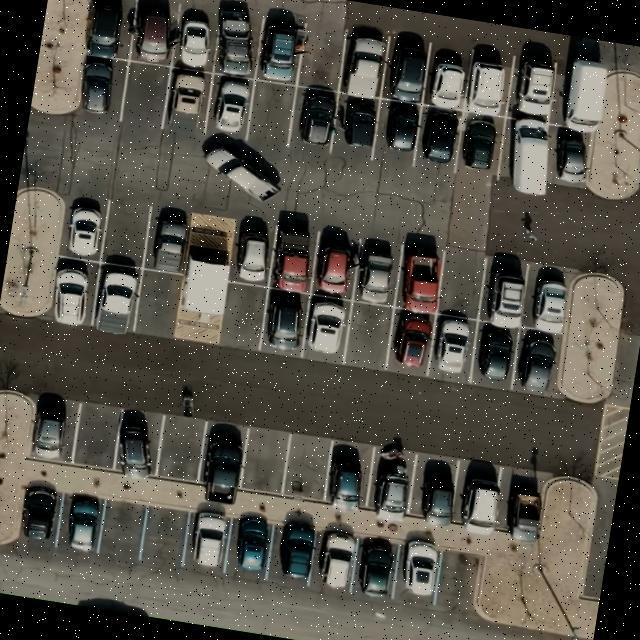space-empty: (292, 20, 348, 94), (278, 434, 336, 504), (98, 196, 154, 268), (152, 414, 208, 486), (117, 61, 171, 134), (245, 80, 297, 154), (436, 246, 486, 320), (70, 401, 122, 472), (217, 282, 270, 350), (137, 502, 190, 570), (344, 300, 395, 370), (133, 268, 184, 336), (238, 428, 288, 496), (97, 498, 147, 562), (436, 552, 484, 614)
space-occupied: (505, 47, 567, 124), (194, 422, 252, 504), (88, 261, 148, 336), (339, 24, 398, 100), (348, 234, 406, 308), (496, 462, 552, 538), (498, 119, 556, 191), (228, 214, 284, 288), (404, 454, 460, 528), (478, 255, 534, 328), (306, 524, 362, 597), (393, 240, 448, 313), (161, 66, 215, 140), (60, 190, 114, 264), (299, 294, 356, 364), (392, 537, 448, 608), (426, 313, 482, 383), (168, 4, 224, 74), (24, 392, 78, 464), (320, 439, 374, 511), (362, 447, 417, 517), (44, 254, 96, 328), (348, 532, 401, 604), (412, 104, 466, 174), (225, 512, 277, 584), (552, 58, 604, 130), (288, 88, 343, 156), (253, 16, 306, 86), (110, 408, 163, 478), (456, 111, 509, 181), (371, 98, 424, 168), (183, 508, 238, 575), (126, 0, 180, 68), (202, 72, 255, 140), (542, 126, 595, 194), (270, 223, 320, 295), (74, 54, 128, 120), (218, 9, 268, 80), (258, 288, 310, 356), (422, 44, 474, 112), (384, 308, 437, 374), (55, 491, 108, 557), (309, 227, 356, 301), (468, 322, 520, 388), (508, 329, 560, 395), (385, 34, 431, 108), (522, 263, 572, 331), (142, 207, 192, 275), (332, 92, 380, 161), (454, 462, 504, 527), (270, 524, 320, 588), (83, 0, 135, 61), (16, 484, 64, 546), (470, 52, 511, 118)
